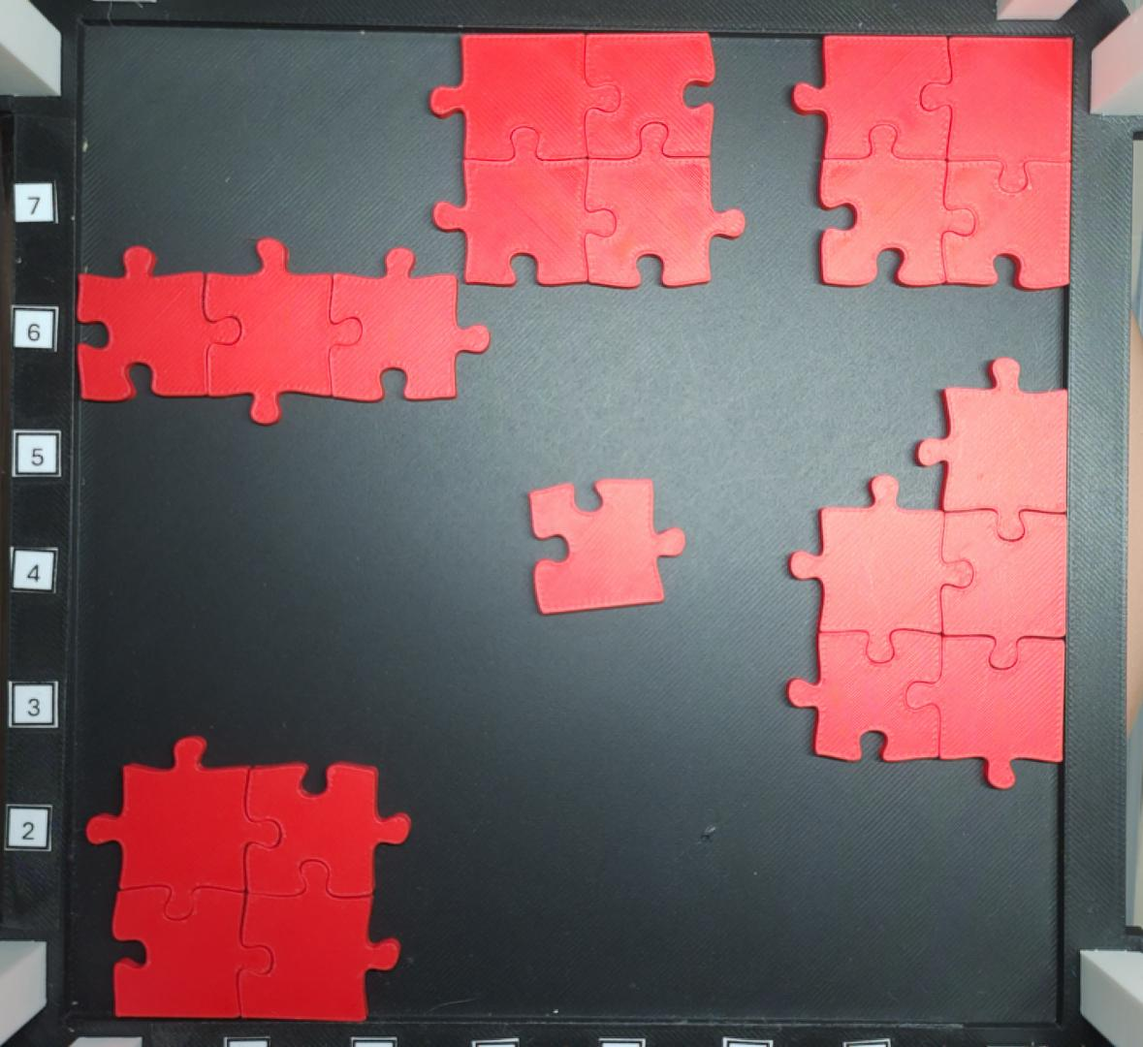p_1: (527, 477, 684, 617)
p_3: (75, 238, 492, 426)
p_4: (85, 737, 410, 1022), (428, 33, 746, 288), (793, 33, 1072, 292)
p_m: (788, 358, 1068, 790)
